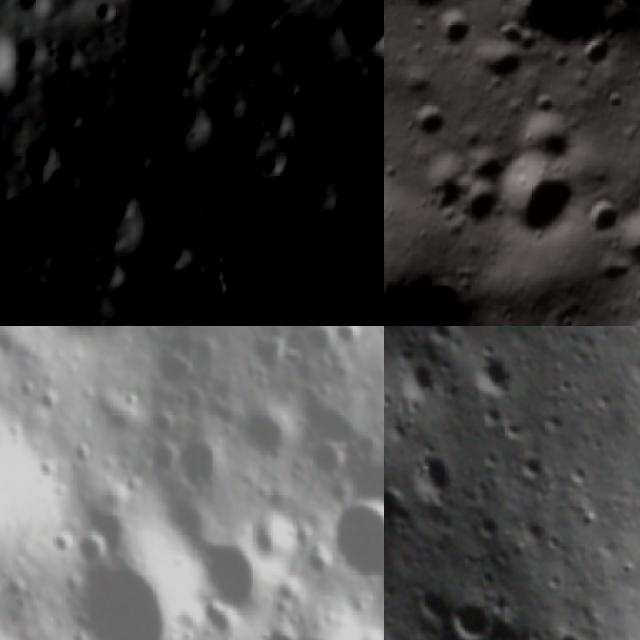crater: (41, 522, 201, 640), (181, 514, 299, 629), (482, 140, 593, 251), (494, 0, 636, 76), (311, 488, 384, 597), (270, 152, 350, 224), (396, 434, 468, 513), (463, 22, 538, 96), (402, 153, 476, 227), (452, 177, 526, 251), (166, 433, 237, 509), (392, 84, 463, 155), (232, 400, 301, 470), (459, 338, 527, 409), (247, 606, 384, 640), (424, 0, 493, 67), (330, 0, 384, 78), (83, 187, 143, 254), (603, 197, 640, 300), (239, 508, 301, 566), (205, 125, 261, 185), (388, 349, 446, 406), (443, 588, 506, 640), (14, 136, 68, 196), (299, 430, 355, 487), (252, 101, 307, 155), (64, 515, 115, 571), (409, 578, 457, 626), (385, 0, 462, 29), (149, 235, 197, 278), (323, 326, 376, 359), (0, 19, 20, 104), (294, 326, 334, 367), (468, 504, 508, 543), (363, 102, 384, 175), (542, 615, 600, 640), (171, 0, 222, 15)
